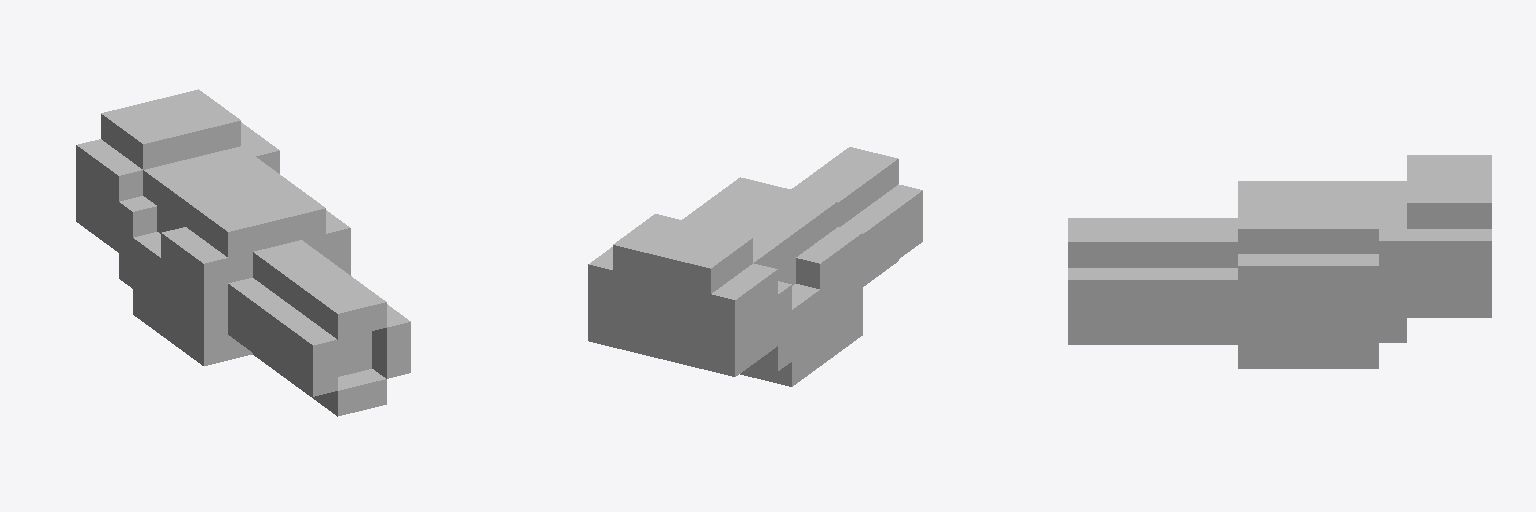
Rendered from torreta cabeça.obj.
3 views of the same model, side by side, from view 1: azimuth 30°, elevation 25°; view 2: azimuth 150°, elevation 25°; view 3: azimuth 270°, elevation 25° (orthographic).
Visible parts, largest first — view 1: object 1; view 2: object 1; view 3: object 1.
Part boxes in pixels (bbox=[...]): object 1: bbox=[76, 89, 410, 416]; object 1: bbox=[588, 147, 922, 386]; object 1: bbox=[1068, 155, 1491, 368].
Bounding box in the file's own units: 0.6 × 0.6 × 1.5.